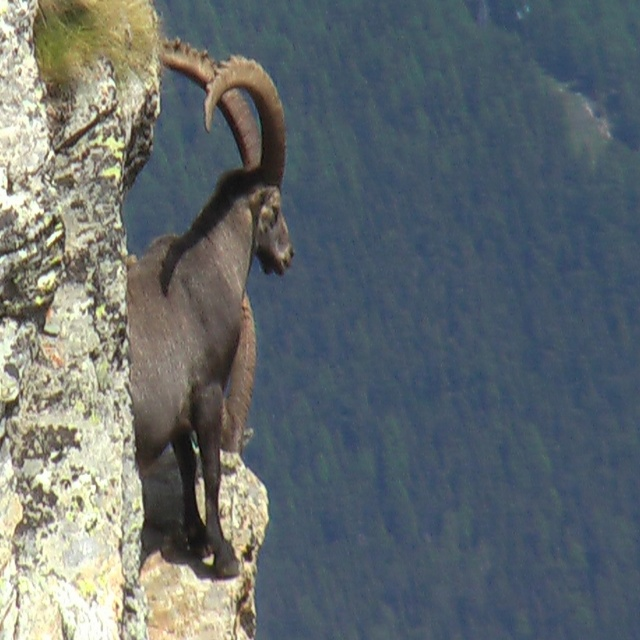Goat: (143, 153, 282, 592)
